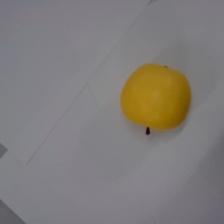yellow: (120, 64, 191, 135)
